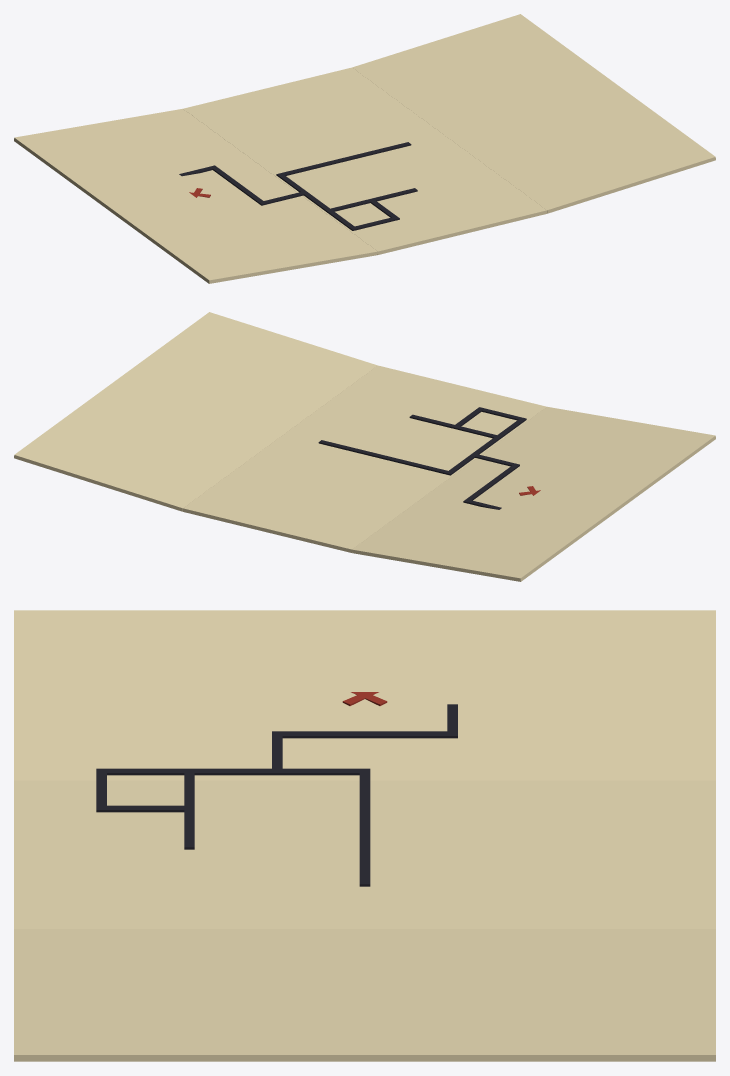
Rendered from Prop_Lab_SurveyMap_B.glb.
The picture shows the model from 3 angles, top to bottom: view 1: azimuth 30°, elevation 25°; view 2: azimuth 150°, elevation 25°; view 3: azimuth 270°, elevation 25°; orthographic projection. The views are drawn at different scales.
Visible parts, largest first — view 1: Prop_Lab_SurveyMap_B; view 2: Prop_Lab_SurveyMap_B; view 3: Prop_Lab_SurveyMap_B.
Part boxes in pixels (<box>): Prop_Lab_SurveyMap_B: <box>14,14,715,283</box>; Prop_Lab_SurveyMap_B: <box>14,312,715,581</box>; Prop_Lab_SurveyMap_B: <box>14,610,715,1061</box>.
Size of what is drawn, in the model's own units: 0.5998 by 0.0179 by 0.4.
